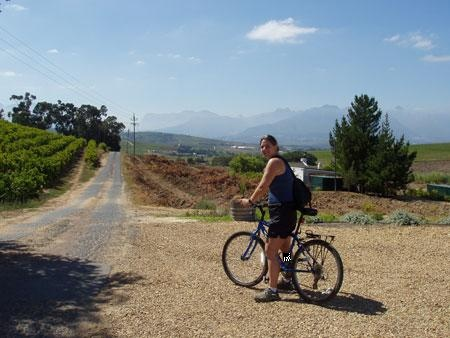car: (221, 201, 346, 306)
person: (235, 134, 296, 305)
